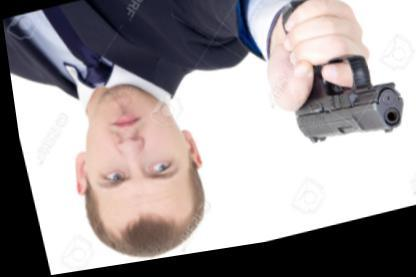pistol: (279, 52, 407, 164)
